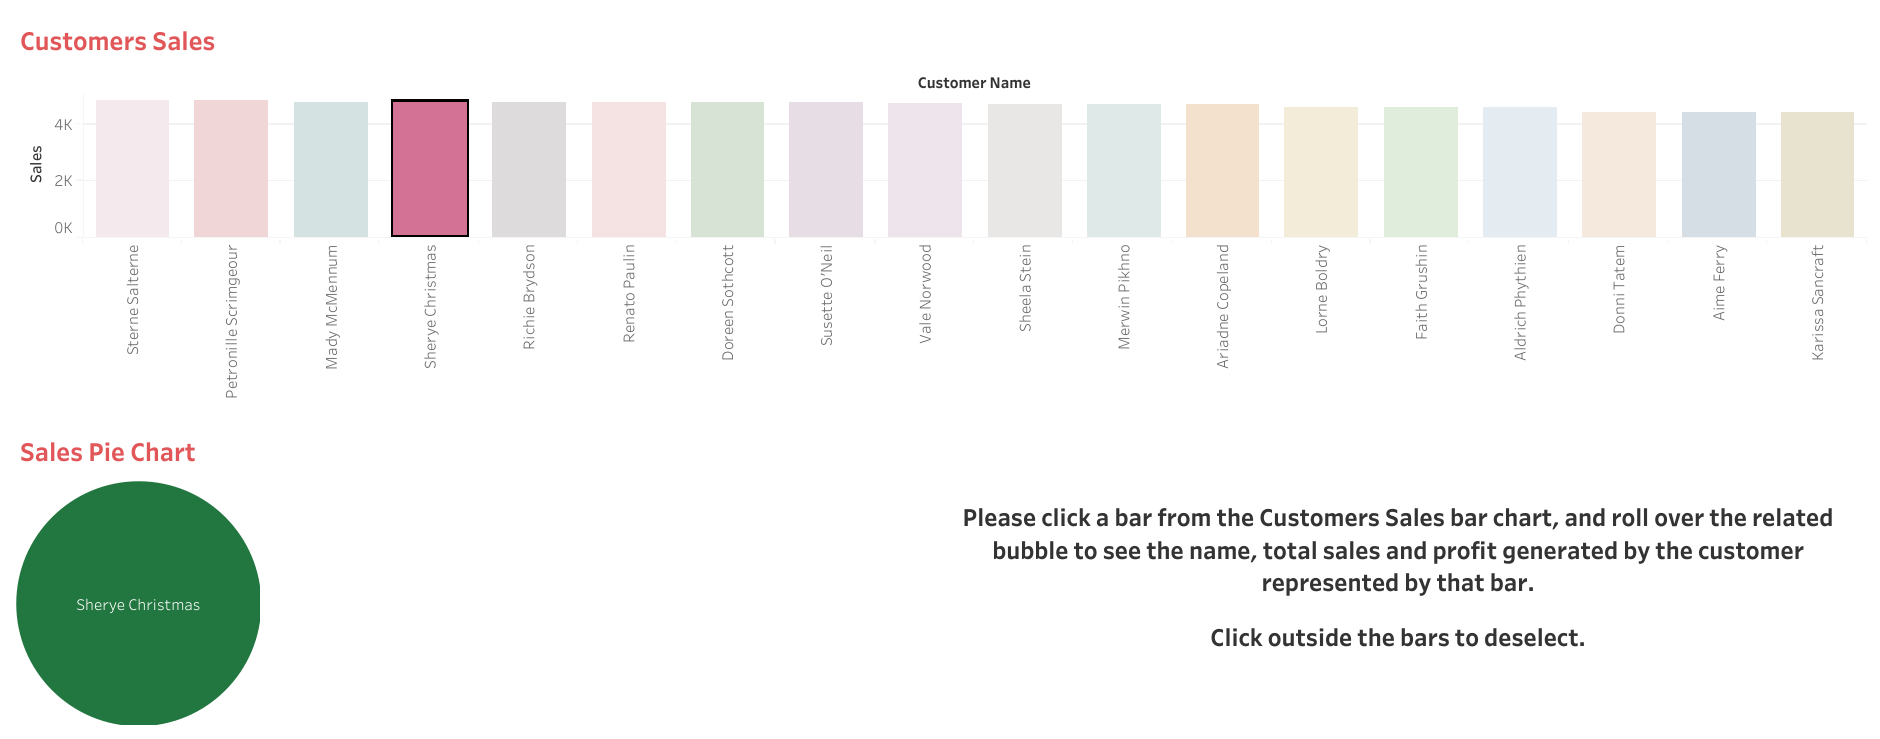

The dashboard page shown, as its layout file describes it:
{"tool":"tableau","page":{"name":"Customer Sales","canvas":[1000,1000],"units":"permille","ordinal":0},"visuals":[{"type":"worksheet","title":"Customers Sales","mark":"Automatic","rows":["Sales"],"cols":["Customer Name"],"box":[4.8,9.4,990.3,560.5]},{"type":"worksheet","title":"Sales Bubble Chart","mark":"Circle","box":[4.8,569.9,487,420.7]},{"type":"text","box":[491.9,569.9,503.3,420.7]}]}

Visuals, with their boxes on the dashboard's canvas, which has no fixed pixel size, in thousandths of its width and height (x1, y1, x2, y2). These are canvas units, not pixel positions in the 1880x739 screenshot, which may show the page scaled, cropped or inside an application window:
"Customers Sales" worksheet: bbox=[5, 9, 995, 570]
"Sales Bubble Chart" worksheet (Circle marks): bbox=[5, 570, 492, 991]
text: bbox=[492, 570, 995, 991]
